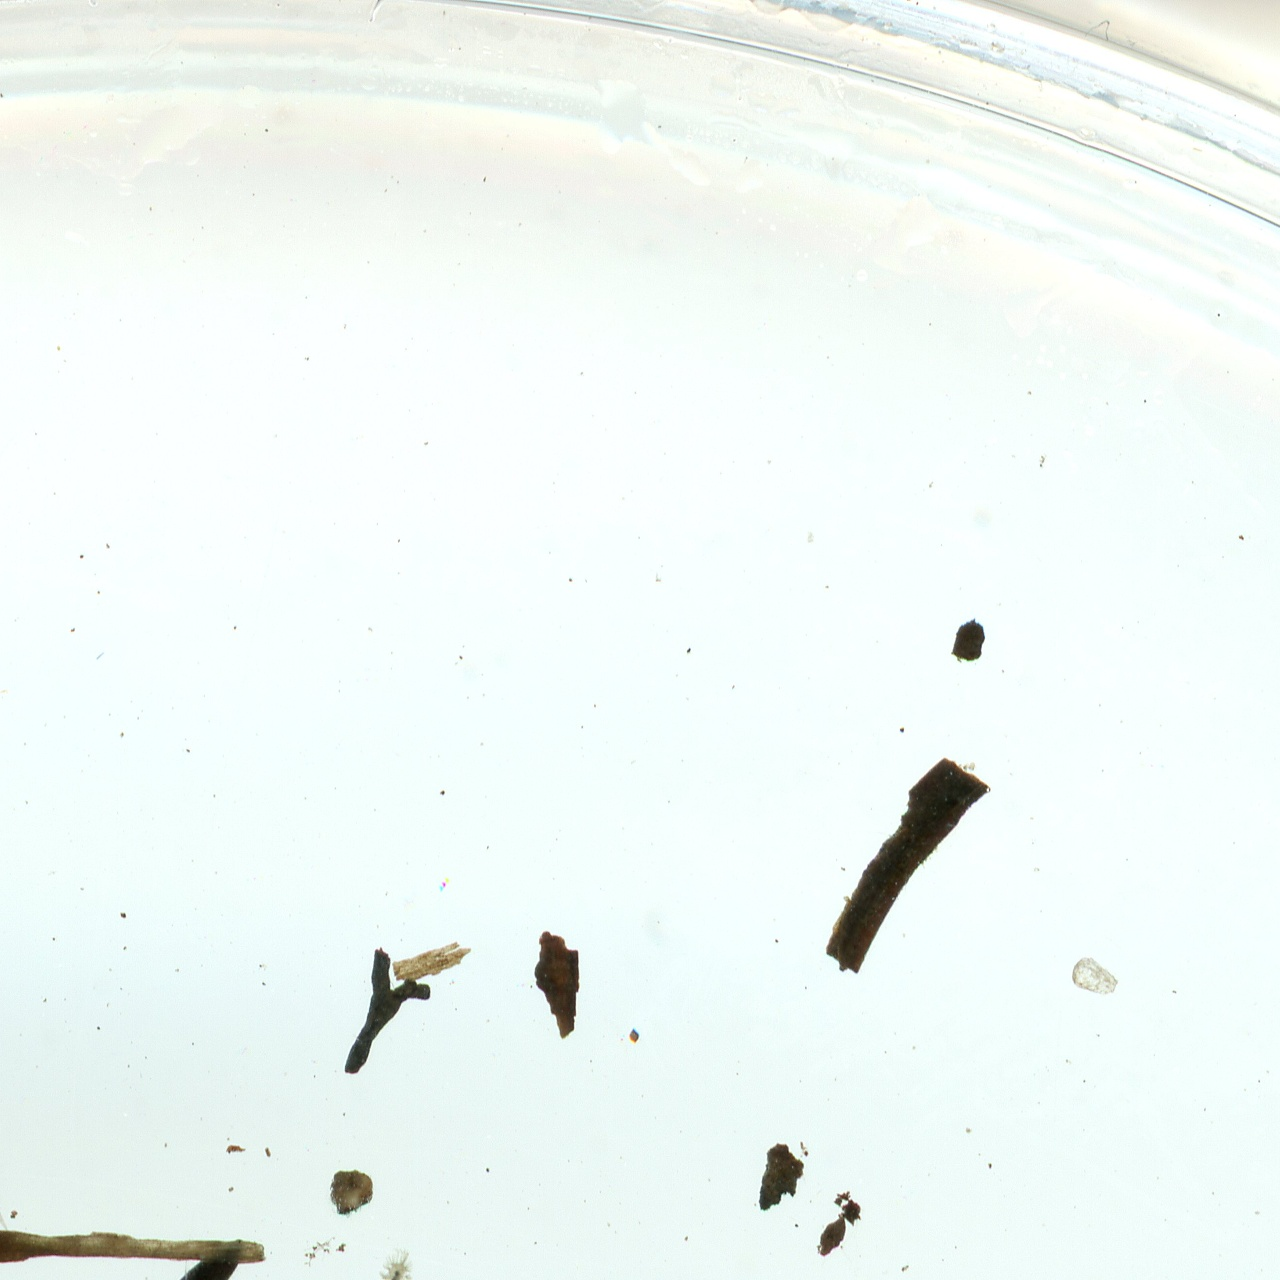arthropod: (0, 1133, 16, 1240), (374, 1246, 414, 1280)
